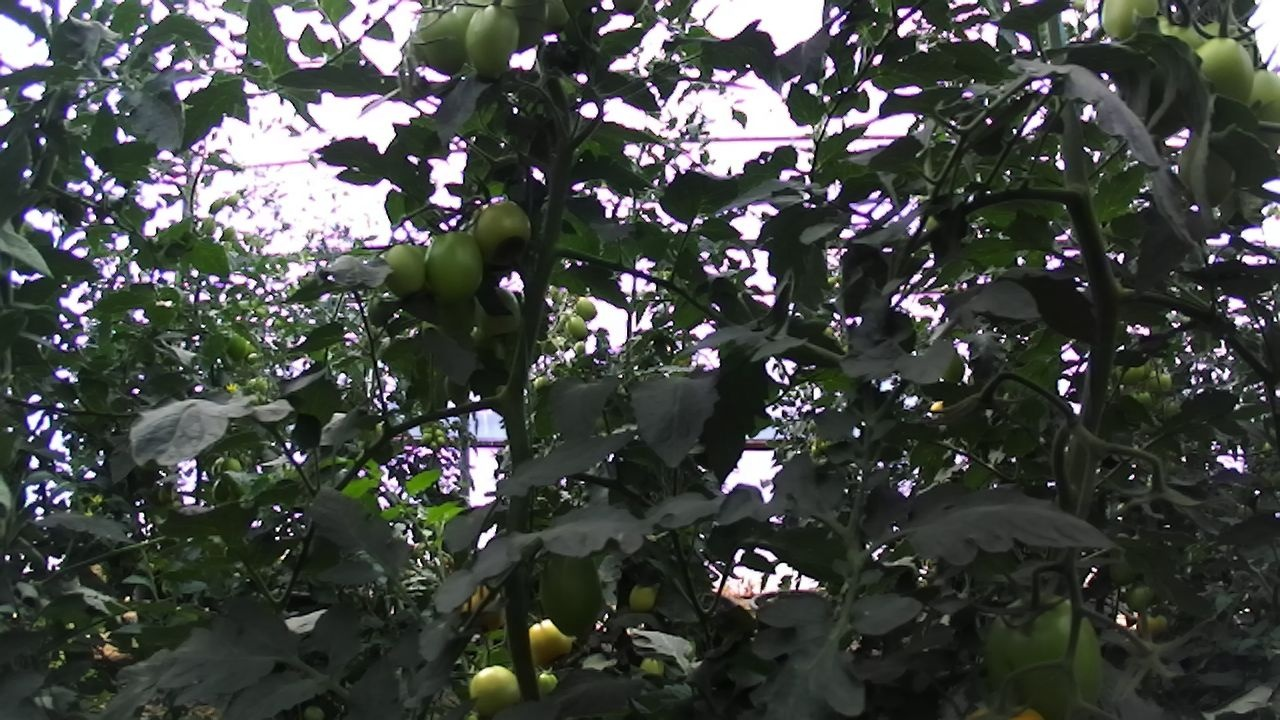tomato: (972, 566, 1133, 720), (531, 526, 622, 649), (413, 216, 495, 317), (404, 0, 478, 95), (456, 0, 529, 94), (464, 187, 542, 274), (1191, 26, 1264, 117), (1175, 121, 1241, 214), (372, 229, 446, 310), (1234, 45, 1280, 168), (455, 653, 534, 720), (517, 608, 585, 679), (469, 282, 531, 345), (1089, 0, 1163, 51), (494, 0, 550, 66), (621, 571, 665, 625), (441, 371, 480, 417), (1121, 574, 1162, 615), (634, 646, 672, 685), (1134, 606, 1173, 644), (1114, 354, 1148, 387), (571, 290, 602, 325), (563, 311, 595, 343), (1144, 365, 1176, 395), (538, 335, 560, 358), (530, 372, 554, 393), (568, 336, 589, 360), (417, 430, 435, 448), (433, 425, 446, 441), (427, 438, 440, 452), (435, 434, 446, 447)
